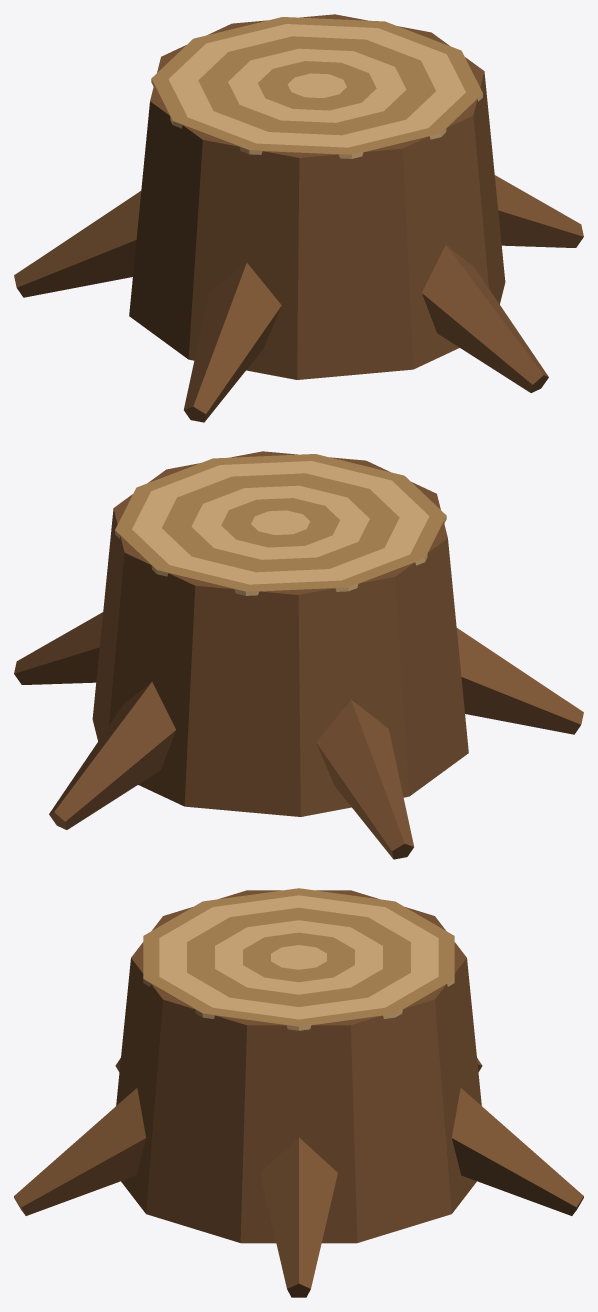
The model's file is nat_stump_v01.glb.
3 renders of one model, top to bottom at view 1: azimuth 30°, elevation 25°; view 2: azimuth 150°, elevation 25°; view 3: azimuth 270°, elevation 25°, orthographic.
Visible parts, largest first — view 1: stump; view 2: stump; view 3: stump.
Part boxes in pixels (x1,y1,x2,y2): stump: (14, 14, 583, 422); stump: (14, 451, 583, 859); stump: (14, 888, 583, 1297).
Bounding box in the file's own units: 1.3 × 0.5727 × 1.36.
